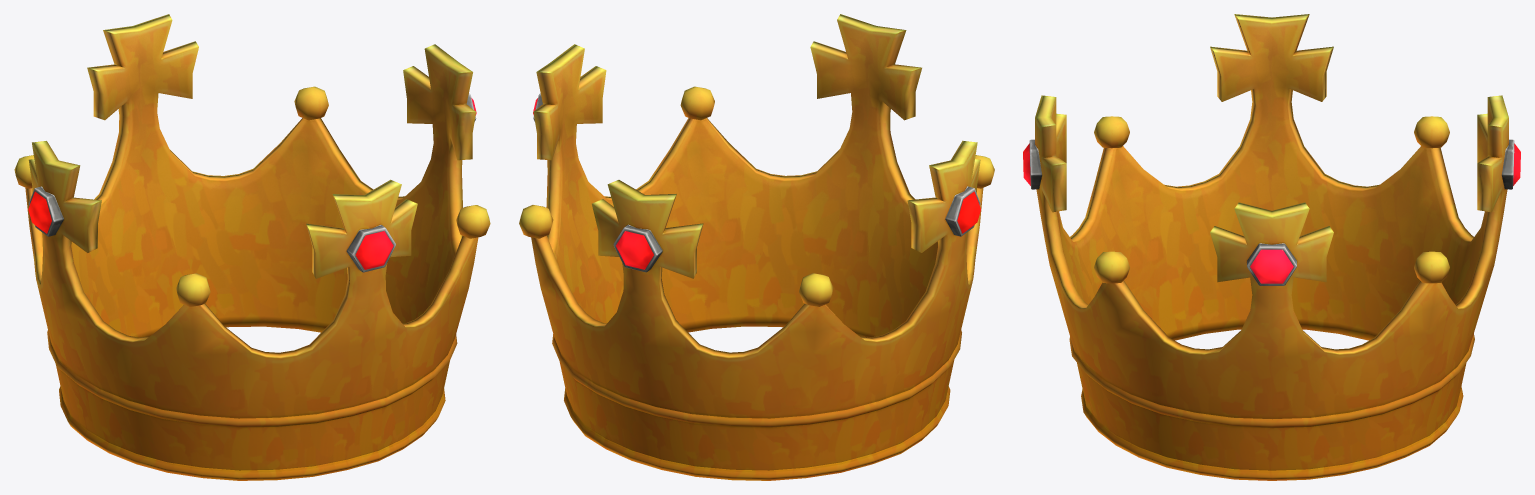
The model's file is SM_King_Crown.fbx.
3 renders of one model, left to right at view 1: azimuth 30°, elevation 25°; view 2: azimuth 150°, elevation 25°; view 3: azimuth 270°, elevation 25°, orthographic.
Visible parts, largest first — view 1: SM_King_Crown_LOD0; view 2: SM_King_Crown_LOD0; view 3: SM_King_Crown_LOD0.
Boxes of the visible parts, box(x1,y1,x2,y2) form: SM_King_Crown_LOD0: box(14, 14, 490, 480); SM_King_Crown_LOD0: box(519, 14, 994, 480); SM_King_Crown_LOD0: box(1023, 14, 1520, 480).
Bounding box in the file's own units: 27.68 × 27.68 × 17.87.
1 material, 1 textured.
